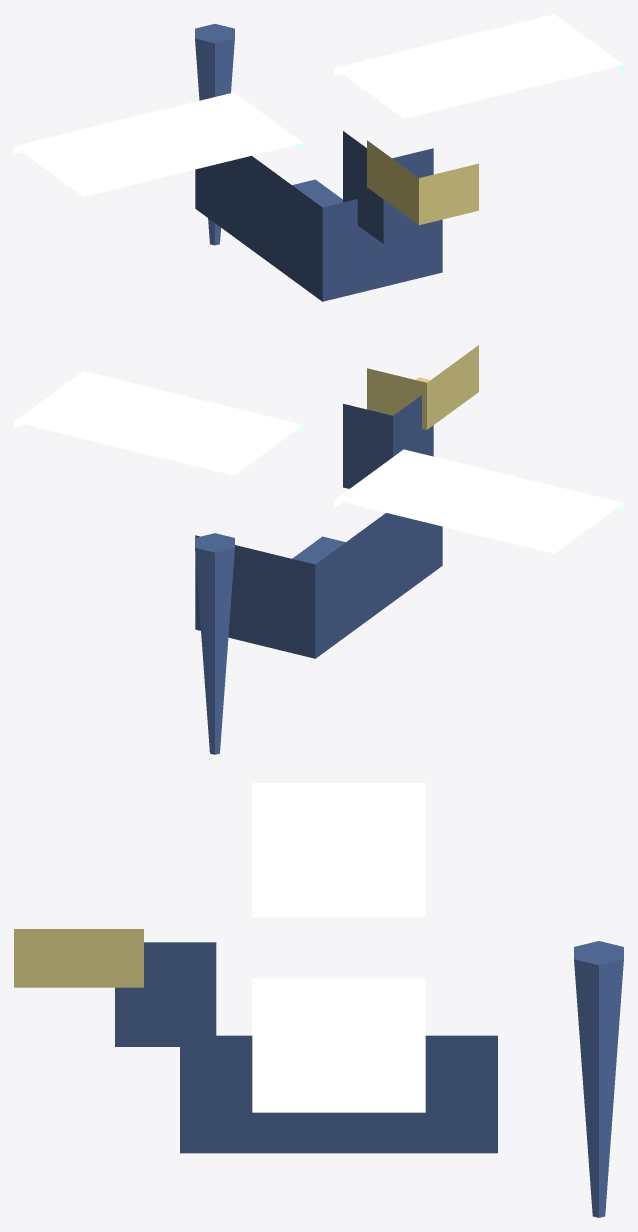
The model's file is boss_astral_dragon.glb.
3 renders of one model, top to bottom at view 1: azimuth 30°, elevation 25°; view 2: azimuth 150°, elevation 25°; view 3: azimuth 270°, elevation 25°, orthographic. The views are drawn at different scales.
Visible parts, largest first — view 1: Wings, Torso, Head, Neck, Tail; view 2: Wings, Torso, Tail, Neck, Head; view 3: Wings, Torso, Tail, Neck, Head.
Part boxes in pixels (x1,y1,x2,y2): Wings: (14,14,623,196); Torso: (195,155,442,301); Head: (367,140,478,225); Neck: (343,131,433,244); Tail: (195,24,234,245); Wings: (14,371,623,553); Torso: (195,513,442,658); Tail: (195,533,234,754); Neck: (343,395,433,488); Head: (367,345,478,429); Wings: (252,783,425,1112); Torso: (180,1035,497,1153); Tail: (574,941,623,1217); Neck: (115,942,216,1046); Head: (14,929,143,987).
Bounding box in the file's own units: 5.4 × 2.33 × 4.22.
